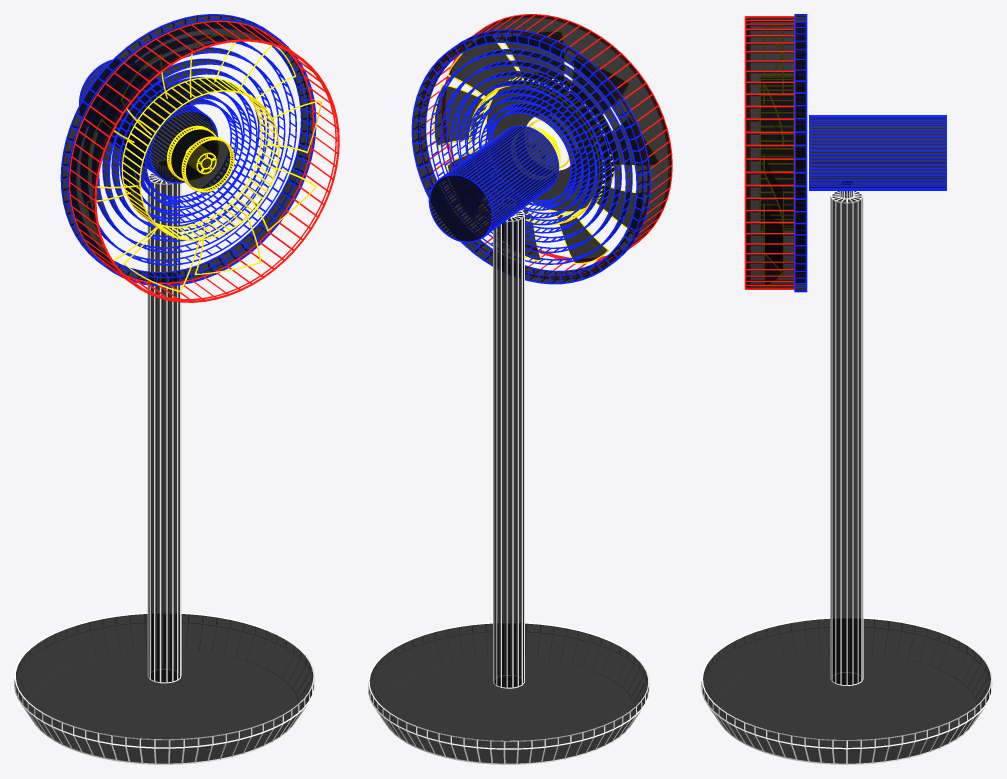
The model's file is fun001.glb.
3 renders of one model, left to right at view 1: azimuth 30°, elevation 25°; view 2: azimuth 150°, elevation 25°; view 3: azimuth 270°, elevation 25°, orthographic. The views are drawn at different scales.
Parts seen in each view (by area): view 1: face-base, line-circle, face-pole, face-circle, line-pole, face-side, line-side, line-panel, face-panel.001, line-base, fave-body, line^panel (+2 smaller); view 2: face-base, line-circle, face-circle, face-pole, face-panel, line-pole, fave-body, face-side, line-body, line-base, face-front01, line-side (+4 smaller); view 3: face-base, face-pole, face-side, line-pole, line-body, fave-body, line-base, line-side, face-circle, line-circle, face-panel.001, face-panel (+1 smaller).
Boxes of the visible parts, x1=… form: face-base: x1=15, y1=614, x2=313, y2=763; line-circle: x1=60, y1=14, x2=316, y2=286; face-pole: x1=148, y1=161, x2=179, y2=682; face-circle: x1=62, y1=15, x2=314, y2=284; line-pole: x1=147, y1=160, x2=181, y2=683; face-side: x1=70, y1=22, x2=287, y2=275; line-side: x1=69, y1=20, x2=339, y2=302; line-panel: x1=121, y1=77, x2=279, y2=240; face-panel.001: x1=123, y1=78, x2=244, y2=221; line-base: x1=14, y1=612, x2=314, y2=764; fave-body: x1=80, y1=60, x2=216, y2=181; line^panel: x1=86, y1=35, x2=321, y2=292; face-base: x1=369, y1=623, x2=648, y2=763; line-circle: x1=411, y1=29, x2=650, y2=284; face-circle: x1=413, y1=30, x2=649, y2=282; face-pole: x1=494, y1=200, x2=523, y2=687; face-panel: x1=434, y1=32, x2=656, y2=262; line-pole: x1=493, y1=199, x2=524, y2=688; fave-body: x1=430, y1=126, x2=557, y2=241; face-side: x1=475, y1=15, x2=671, y2=247; line-body: x1=428, y1=125, x2=559, y2=242; line-base: x1=368, y1=622, x2=649, y2=764; face-front01: x1=486, y1=78, x2=613, y2=211; line-side: x1=420, y1=14, x2=672, y2=277; face-base: x1=703, y1=619, x2=990, y2=763; face-pole: x1=831, y1=191, x2=862, y2=684; face-side: x1=746, y1=17, x2=793, y2=288; line-pole: x1=830, y1=179, x2=863, y2=685; line-body: x1=809, y1=115, x2=946, y2=190; fave-body: x1=810, y1=117, x2=945, y2=187; line-base: x1=701, y1=617, x2=992, y2=764; line-side: x1=744, y1=16, x2=794, y2=289; face-circle: x1=795, y1=14, x2=805, y2=291; line-circle: x1=794, y1=14, x2=807, y2=292; face-panel.001: x1=761, y1=78, x2=792, y2=227; face-panel: x1=765, y1=135, x2=782, y2=283.
Size of the model in its own units: 0.3485 by 0.9011 by 0.3485.
